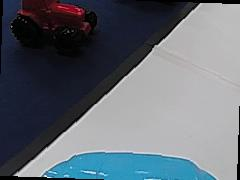Tracktor: (9, 0, 100, 48)
